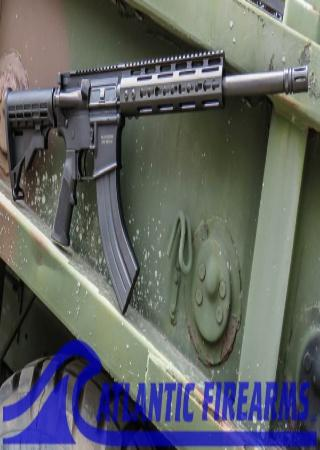weapon: (6, 50, 310, 314)
